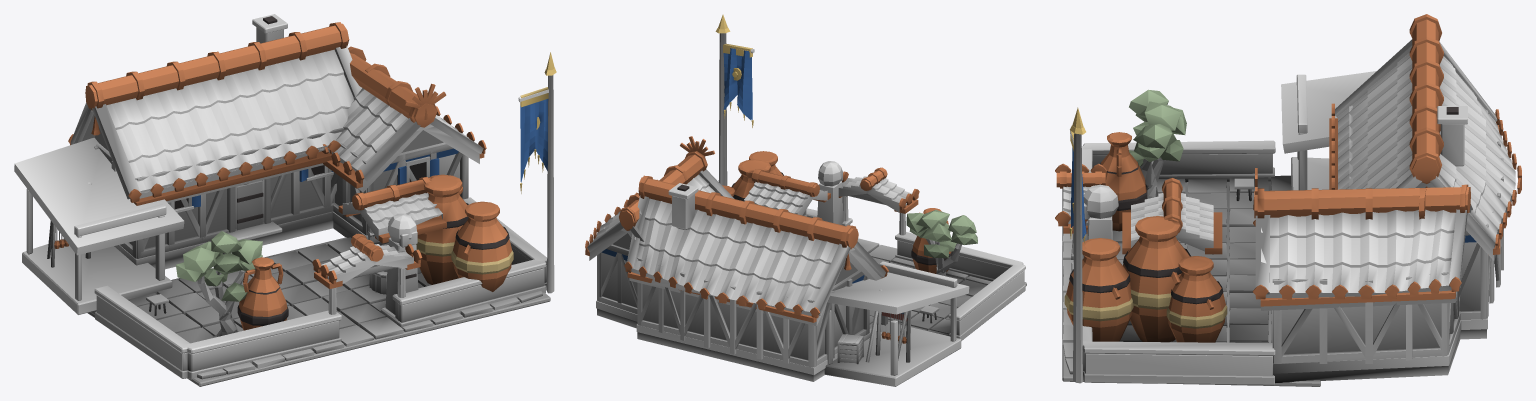
The model's file is house-l2.glb.
The picture shows the model from 3 angles, left to right: view 1: azimuth 30°, elevation 25°; view 2: azimuth 150°, elevation 25°; view 3: azimuth 270°, elevation 25°; orthographic projection. The views are drawn at different scales.
Visible parts, largest first — view 1: house-l2; view 2: house-l2; view 3: house-l2.
Part boxes in pixels (left/top/right/bottom): house-l2: left=14, top=14, right=556, bottom=386; house-l2: left=585, top=14, right=1026, bottom=386; house-l2: left=1055, top=14, right=1521, bottom=386.
Bounding box in the file's own units: 1.48 × 0.864 × 1.31.
